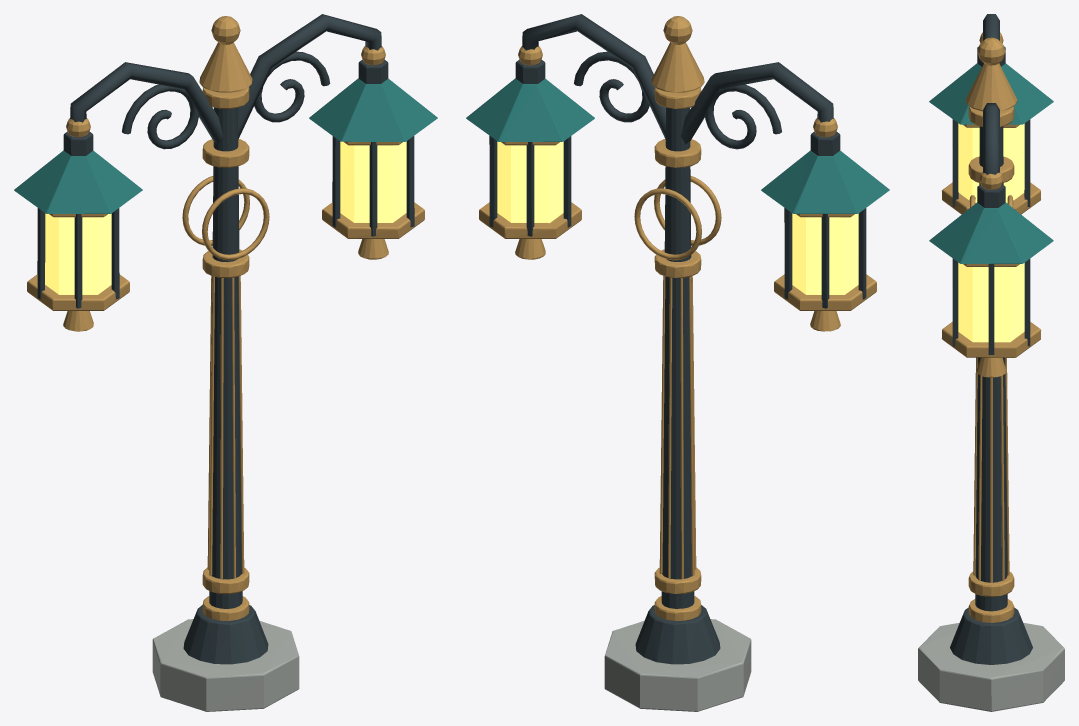
File: prop_aegis_civic_streetlight_lod1.glb
3 views of the same model, side by side, from view 1: azimuth 30°, elevation 25°; view 2: azimuth 150°, elevation 25°; view 3: azimuth 270°, elevation 25° (orthographic). The views are drawn at different scales.
Parts seen in each view (by area): view 1: aegis_civic_streetlight.001; view 2: aegis_civic_streetlight.001; view 3: aegis_civic_streetlight.001.
Boxes of the visible parts, x1,y1,x2,y2 form: aegis_civic_streetlight.001: (14, 14, 437, 711); aegis_civic_streetlight.001: (466, 14, 889, 711); aegis_civic_streetlight.001: (918, 14, 1064, 711).
Bounding box in the file's own units: 2.79 × 4.52 × 0.9358.
